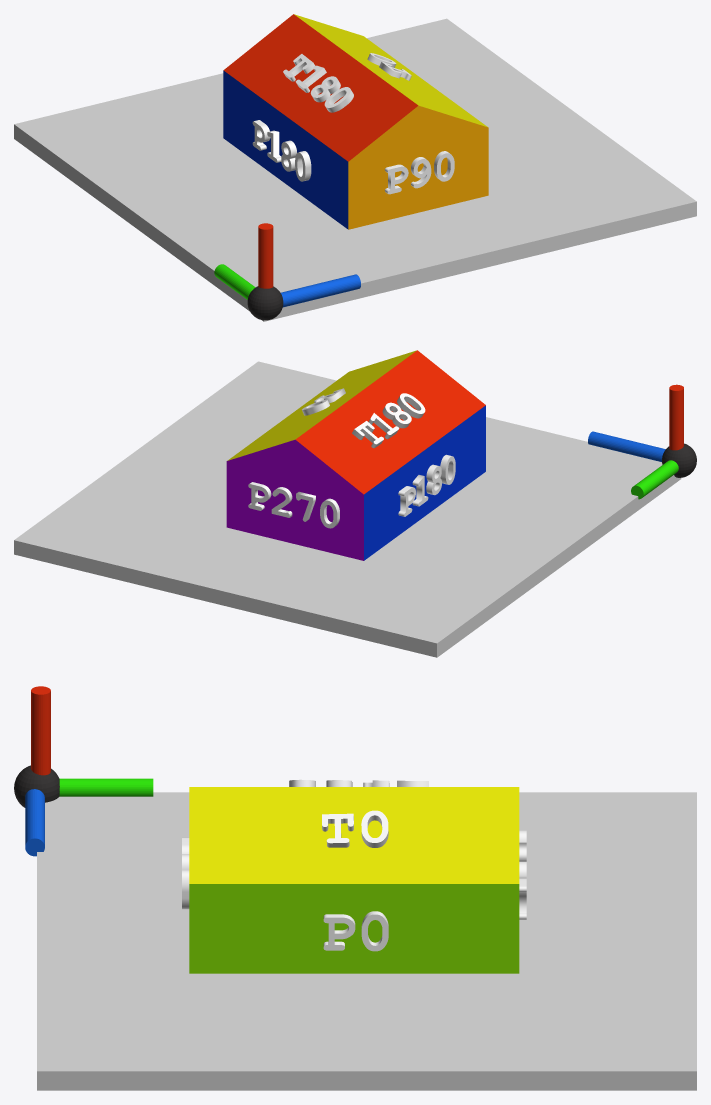
The picture shows the model from 3 angles, top to bottom: view 1: azimuth 30°, elevation 25°; view 2: azimuth 150°, elevation 25°; view 3: azimuth 270°, elevation 25°; orthographic projection. The views are drawn at different scales.
Parts seen in each view (by area): view 1: Cube, Cube001, Text005, Text001, Text002, Cylinder, Cylinder001, Sphere, Cylinder002, Text004; view 2: Cube, Cube001, Text005, Text003, Text001, Cylinder, Cylinder001, Cylinder002, Sphere, Text004; view 3: Cube, Cube001, Cylinder002, Cylinder001, Text, Text004, Cylinder, Sphere, Text005, Text003.
Part boxes in pixels (x1,y1,x2,y2): Cube: (14, 18, 696, 321); Cube001: (223, 14, 488, 229); Text005: (283, 54, 353, 112); Text001: (252, 120, 311, 181); Text002: (384, 151, 454, 194); Cylinder: (281, 274, 360, 307); Cylinder001: (258, 223, 273, 288); Sphere: (247, 286, 283, 320); Cylinder002: (214, 264, 255, 299); Text004: (367, 53, 411, 80); Cube: (14, 361, 681, 657); Cube001: (226, 350, 485, 560); Text005: (352, 393, 425, 448); Text003: (248, 482, 339, 528); Text001: (398, 454, 455, 516); Cylinder: (588, 431, 665, 461); Cylinder001: (669, 384, 683, 450); Cylinder002: (631, 460, 678, 499); Sphere: (662, 443, 696, 477); Text004: (302, 388, 345, 415); Cube: (37, 792, 696, 1090); Cube001: (189, 787, 519, 973); Cylinder002: (59, 778, 153, 796); Cylinder001: (31, 686, 50, 775); Text: (323, 911, 388, 951); Text004: (322, 810, 388, 847); Cylinder: (25, 789, 44, 856); Sphere: (14, 765, 59, 807); Text005: (289, 779, 428, 786); Text003: (519, 830, 526, 919).
Size of the model in its own units: 4.13 by 1.08 by 4.14.
